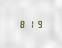eight: (18, 20, 25, 28)
nine: (35, 20, 42, 28)
one: (27, 20, 34, 28)
